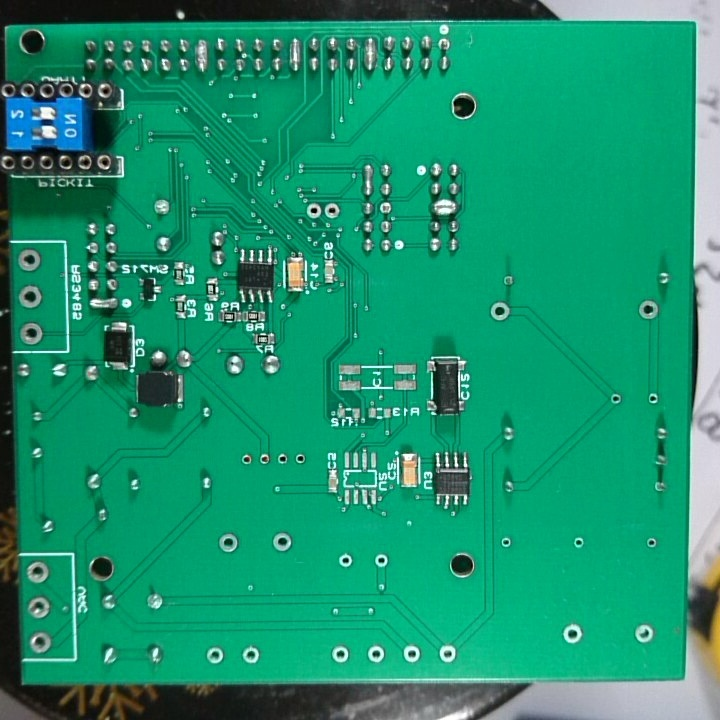F: (558, 619, 587, 649), (25, 595, 56, 623), (25, 558, 53, 589), (25, 628, 57, 655), (14, 246, 43, 275), (16, 282, 44, 312), (631, 618, 659, 647), (17, 320, 47, 347), (216, 530, 243, 557), (268, 529, 296, 555), (635, 297, 662, 323), (399, 641, 424, 669), (488, 299, 514, 324), (435, 641, 459, 666), (203, 644, 227, 668), (144, 589, 168, 613), (240, 643, 263, 668), (364, 642, 387, 666), (328, 643, 351, 667), (150, 195, 173, 218), (370, 548, 394, 570), (335, 550, 356, 572), (323, 200, 341, 221), (305, 200, 321, 221), (239, 449, 254, 471), (646, 389, 663, 408), (436, 34, 453, 53), (496, 534, 516, 550), (377, 200, 398, 215), (651, 479, 670, 495), (572, 532, 587, 552), (275, 449, 289, 469), (258, 449, 271, 470), (293, 449, 307, 468), (502, 273, 519, 288), (608, 391, 624, 406), (644, 534, 659, 549)
P: (287, 35, 304, 76), (193, 38, 209, 76), (427, 198, 459, 216), (364, 34, 377, 77), (361, 161, 376, 198), (87, 296, 121, 312)
